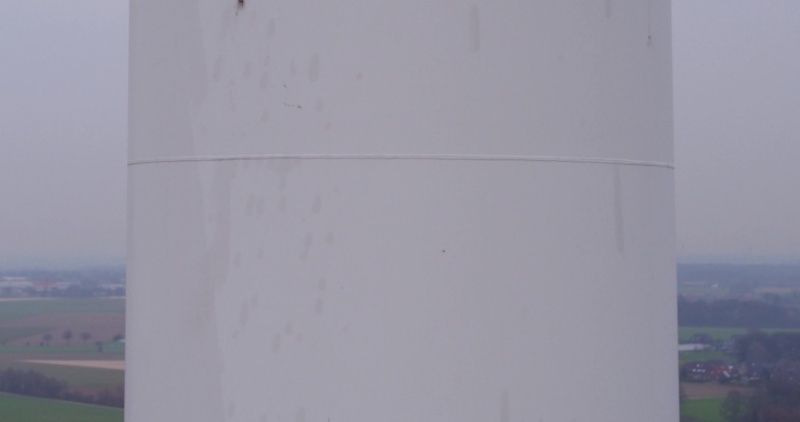weldseam: (128, 149, 677, 181)
